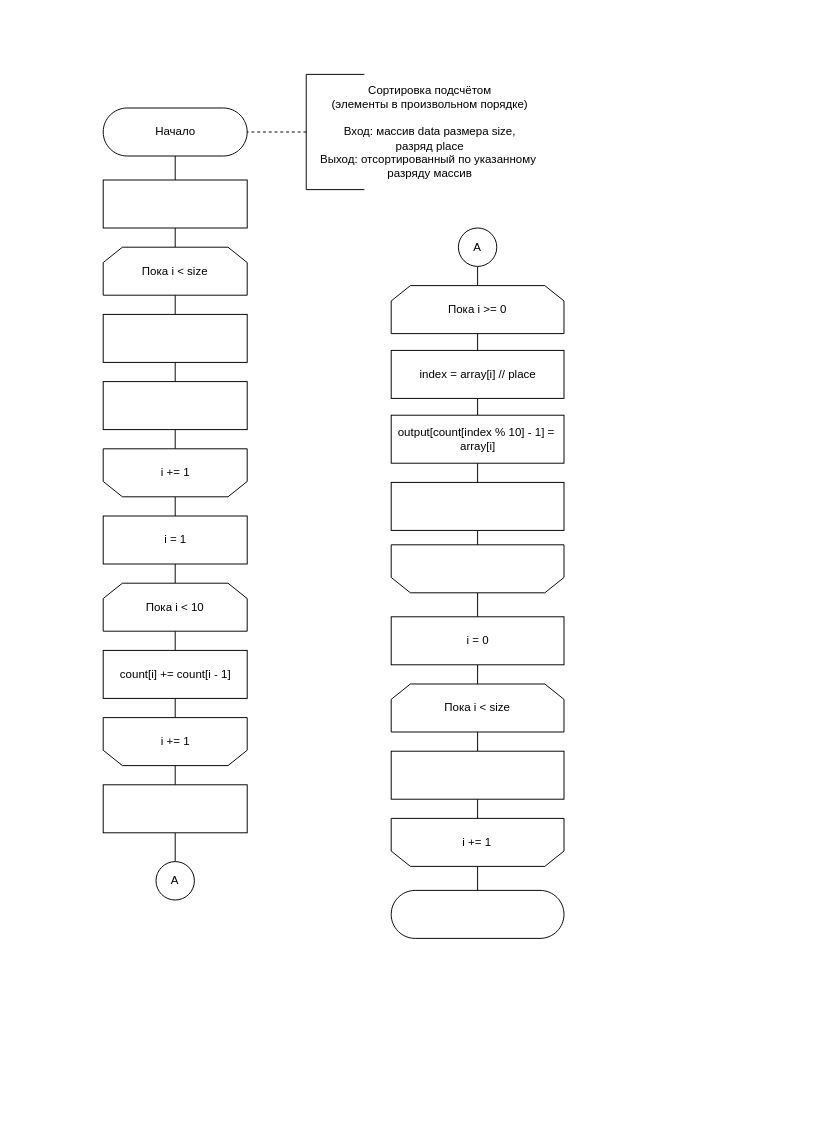
Some shapes in this 820 by 1146 pixel diagram are drawn without their labels. The shapes that lost their labels are listed below. From the top down, each one's box as (x1, y1, x2, y2) in pixels, then its label:
(102, 179, 247, 228): output = [0] * size, count = [0] * 10, i = 0
(102, 313, 247, 362): index = data[i] // place
(102, 381, 247, 430): count[index % 10] += 1
(390, 481, 564, 530): count[index % 10] -= 1
(390, 544, 564, 593): i -= 1
(390, 750, 564, 799): data[i] = output[i]
(102, 784, 247, 833): i = size - 1
(390, 889, 564, 938): Конец
